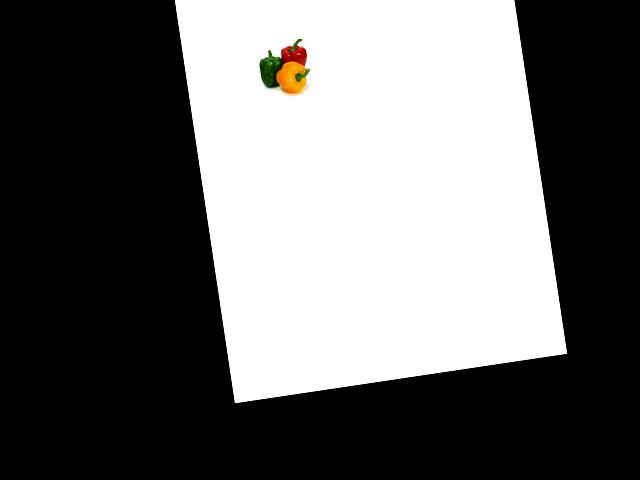bell_pepper: (274, 34, 313, 74)
